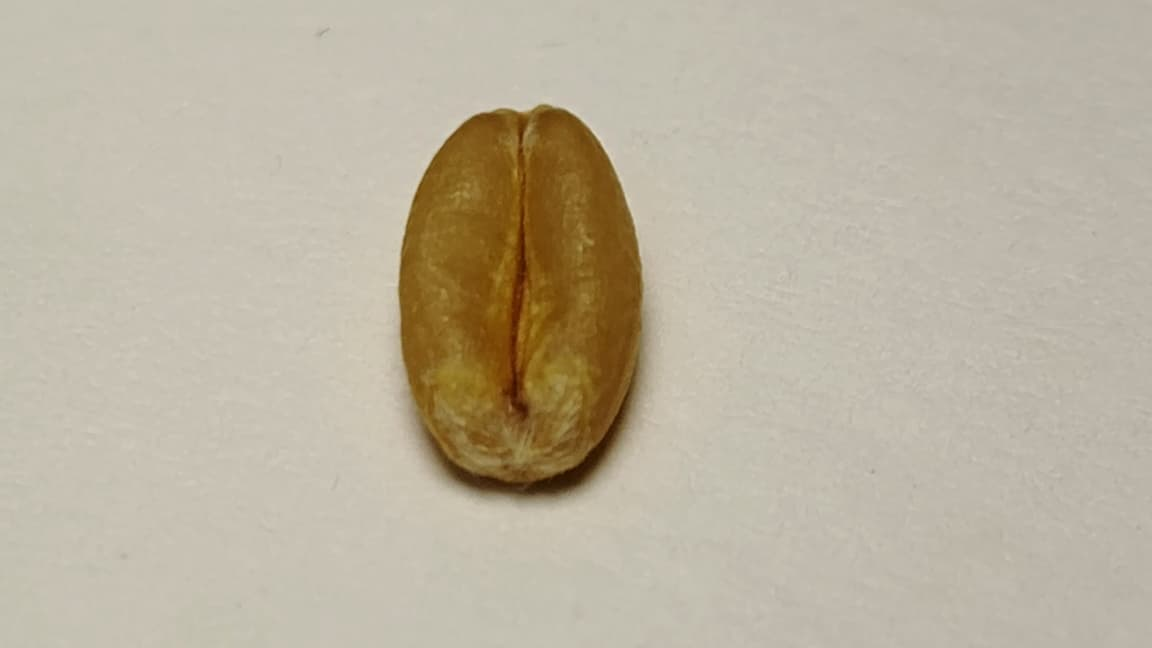healthy: (398, 105, 642, 481)
